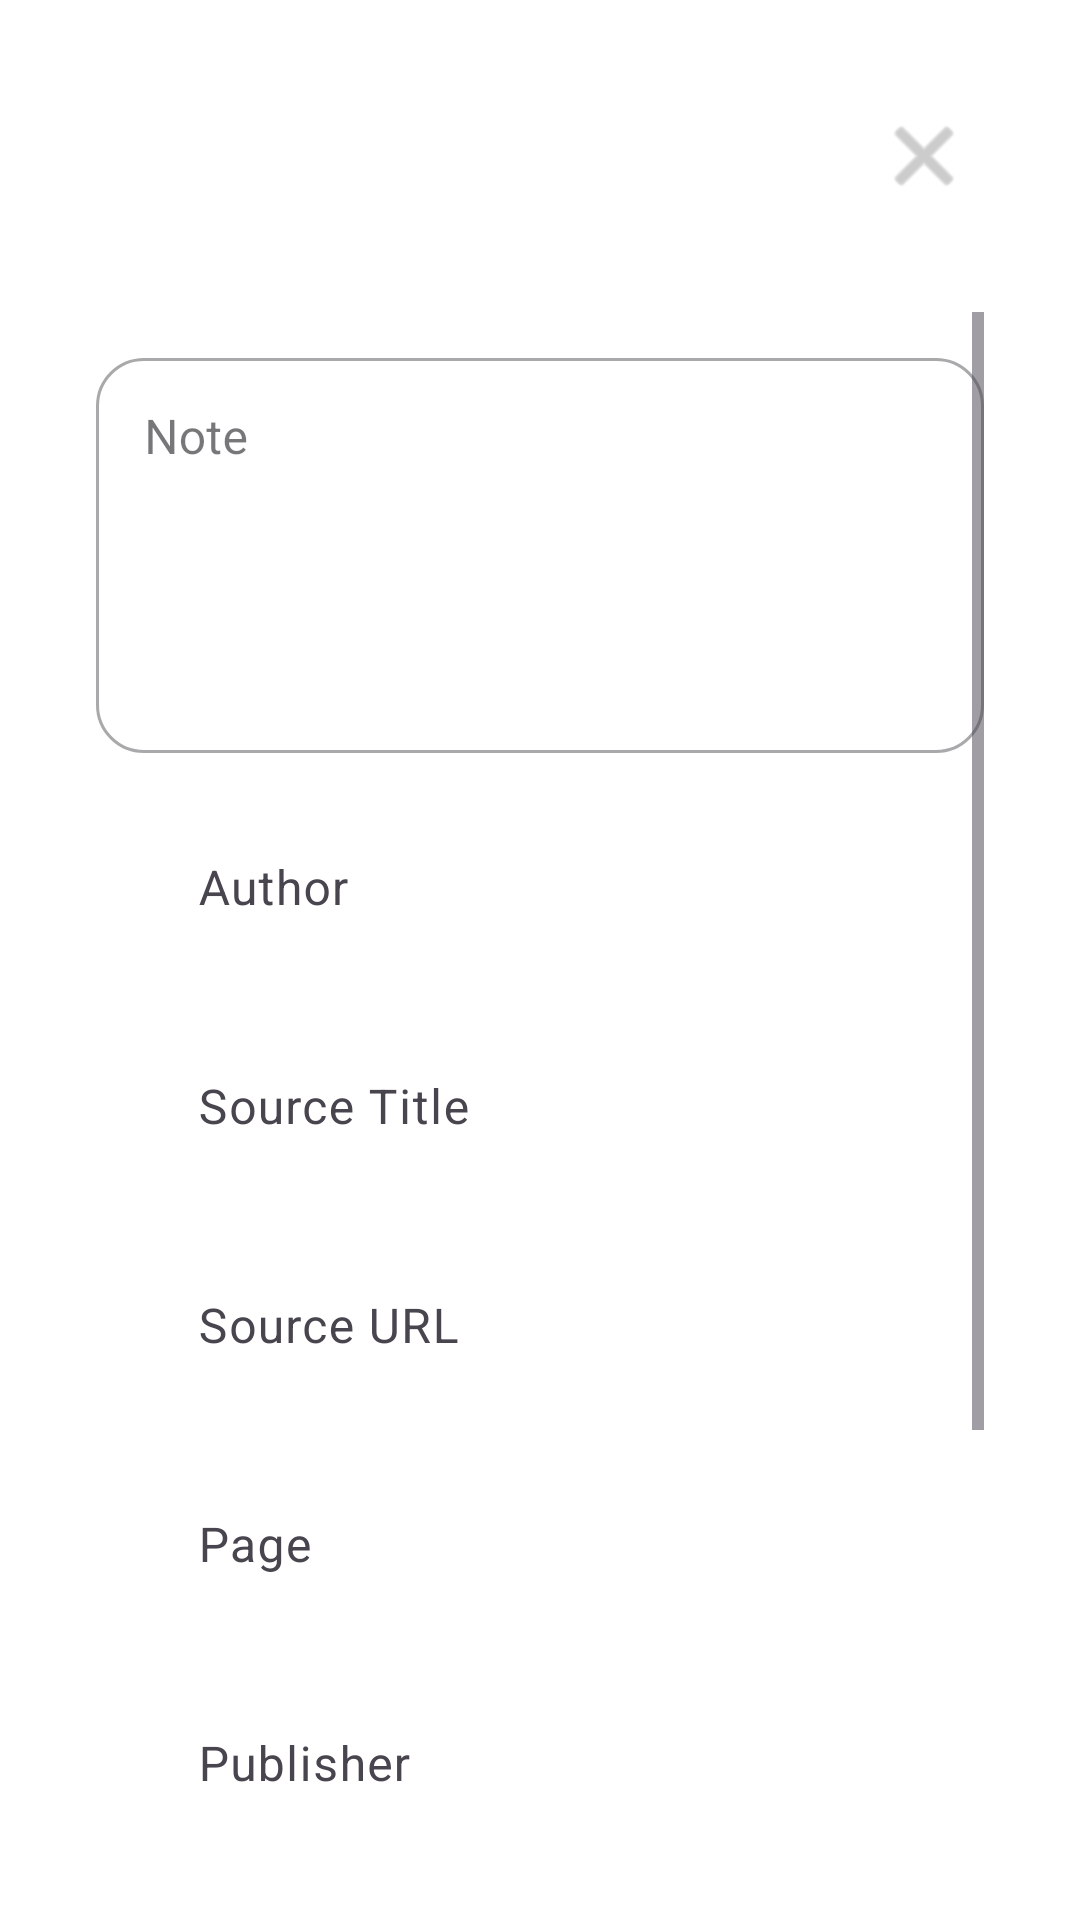

Point at icon controls on the screen. Image size 1080 x 1920, points as (x=x, y=y).
Close: (x=921, y=153)
